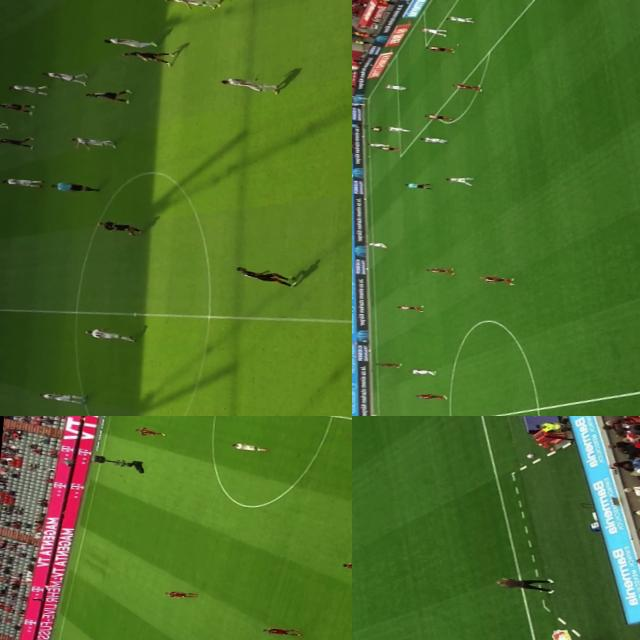player: (232, 264, 298, 288), (90, 220, 142, 238), (82, 327, 136, 344), (216, 77, 273, 93), (80, 88, 130, 104), (34, 388, 82, 404), (99, 36, 150, 50), (228, 438, 272, 454), (254, 624, 297, 640), (124, 50, 172, 64), (38, 70, 85, 84), (0, 175, 40, 189), (7, 82, 47, 96), (476, 272, 516, 286), (163, 0, 218, 10), (69, 136, 110, 148), (448, 79, 484, 92), (0, 99, 32, 113), (160, 588, 197, 600), (0, 136, 34, 148), (403, 366, 437, 378), (412, 391, 449, 402), (133, 426, 170, 437), (440, 173, 471, 186), (415, 134, 447, 146), (369, 358, 401, 369), (420, 110, 449, 122), (422, 266, 453, 276), (420, 44, 450, 54), (443, 14, 473, 24), (418, 26, 445, 37), (382, 82, 408, 92), (384, 124, 410, 134), (392, 304, 423, 312), (336, 559, 352, 574), (376, 144, 401, 152), (363, 241, 388, 249), (0, 119, 12, 131), (364, 140, 384, 147), (366, 126, 381, 133)
